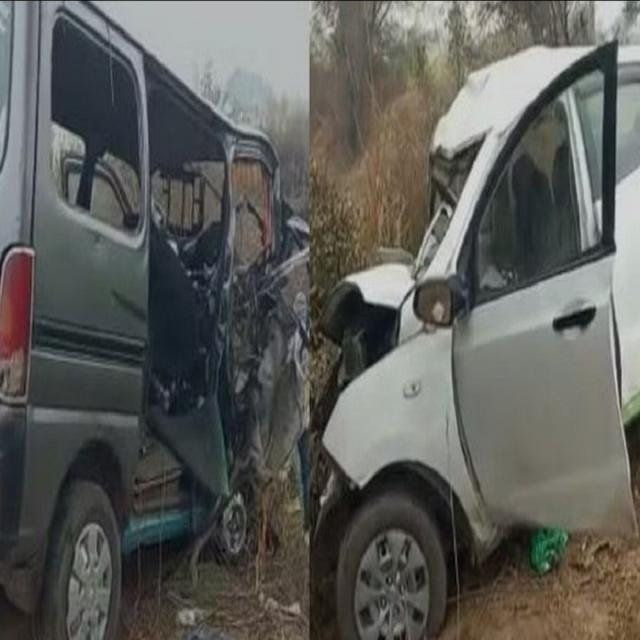accident: (0, 2, 309, 638), (311, 41, 640, 638)
